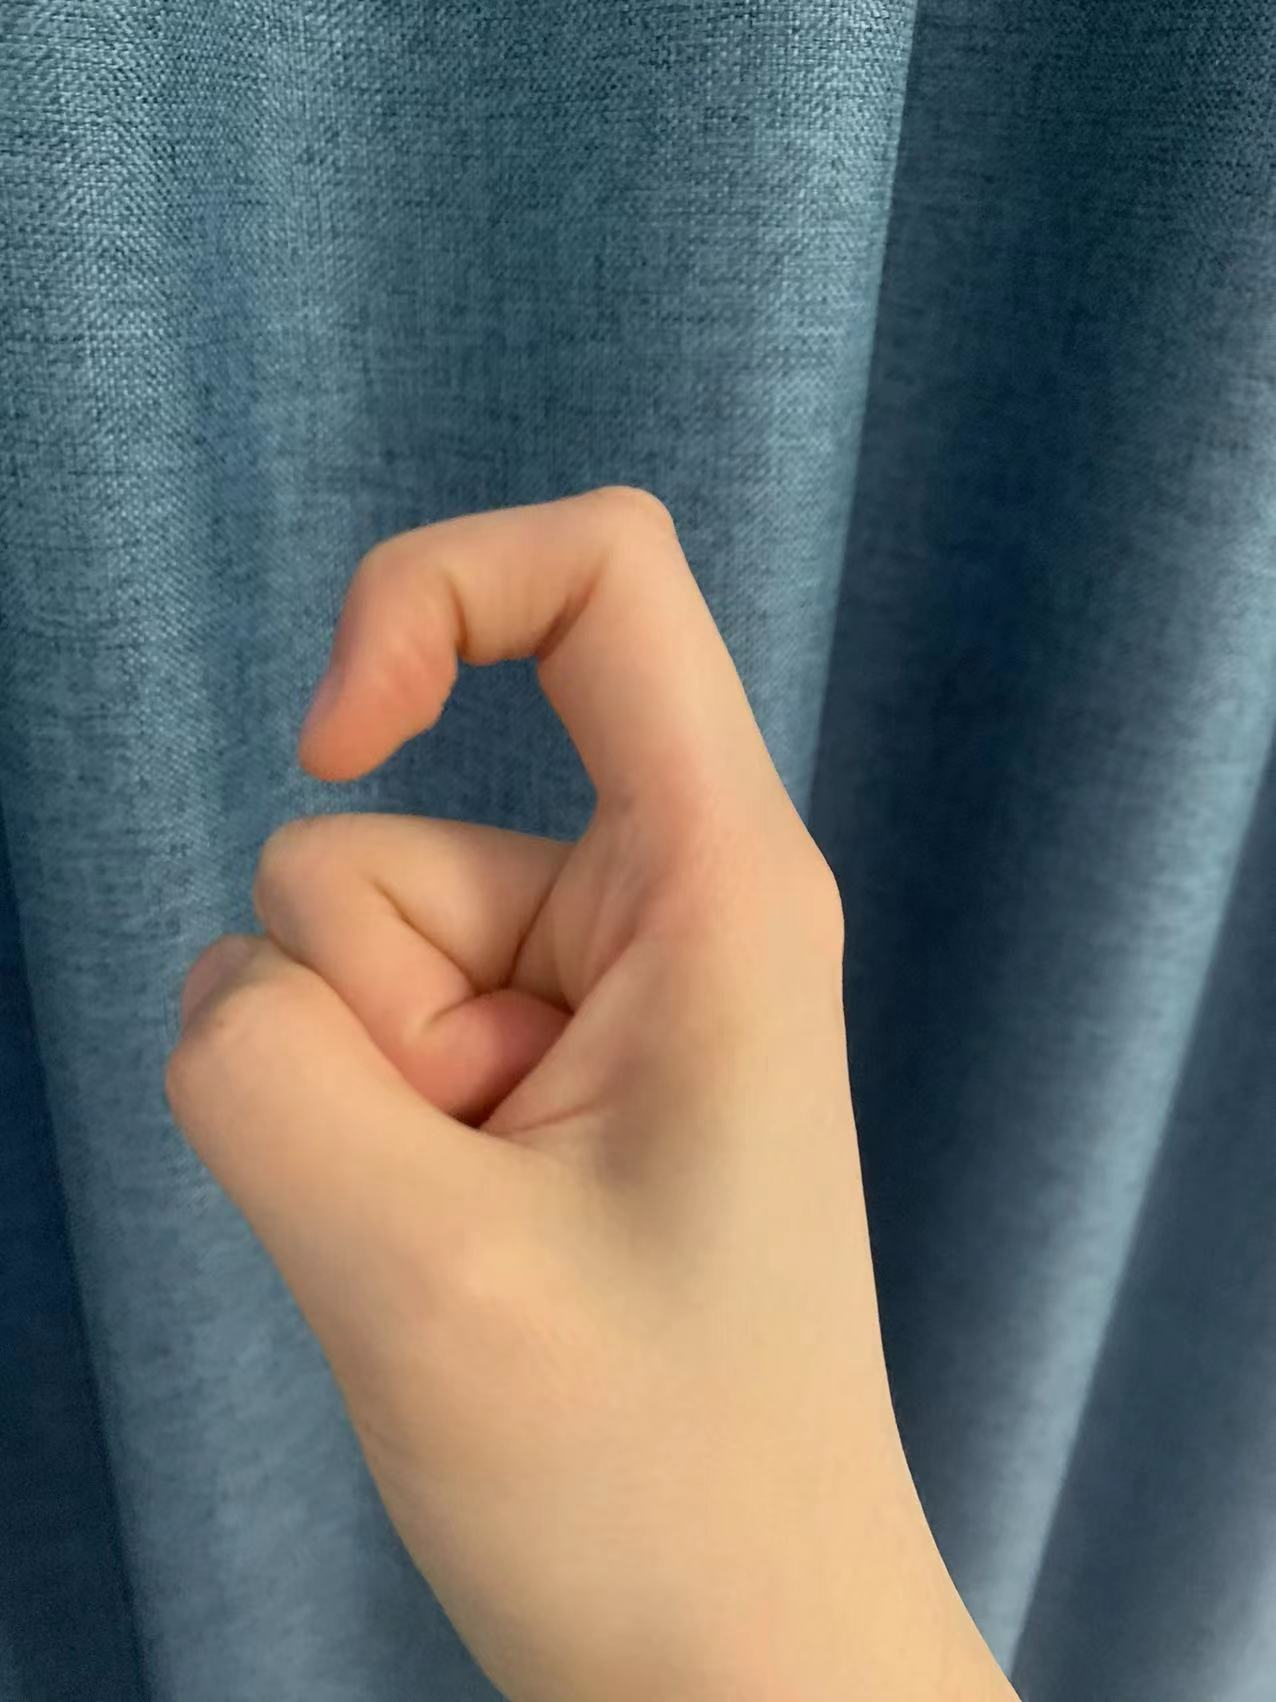anticlockwise: (151, 469, 928, 1634)
